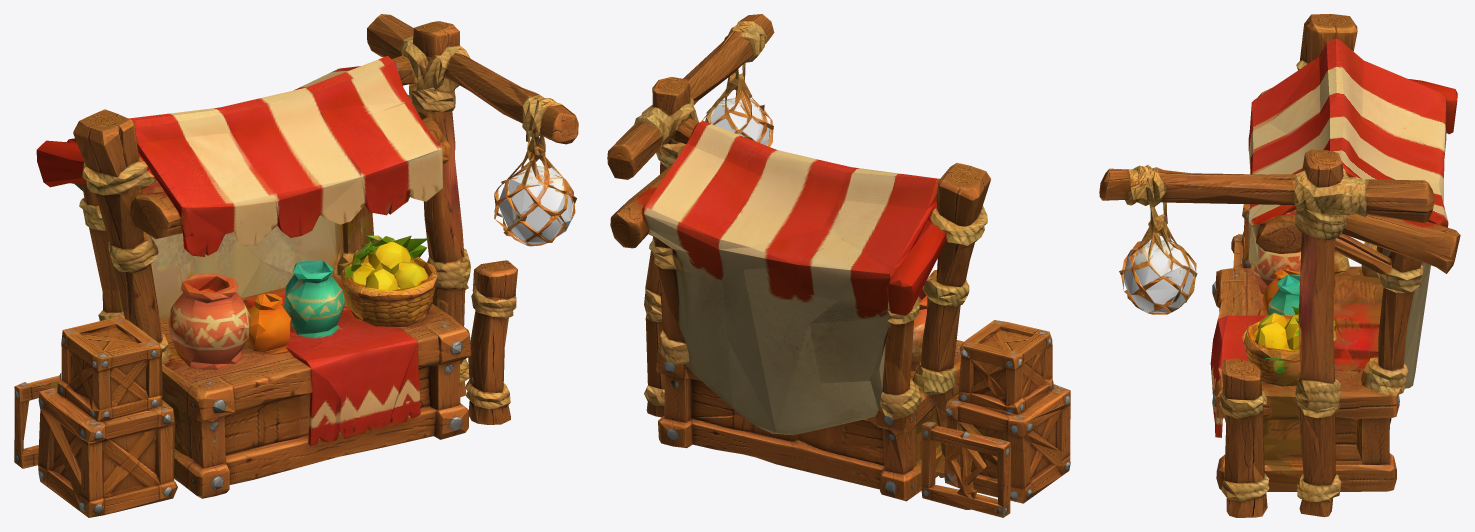
File: stall-meshy.glb
3 renders of one model, left to right at view 1: azimuth 30°, elevation 25°; view 2: azimuth 150°, elevation 25°; view 3: azimuth 270°, elevation 25°, orthographic. The views are drawn at different scales.
Size of the model in its own units: 1.89 by 1.5 by 1.4.
1 material, 1 textured.
